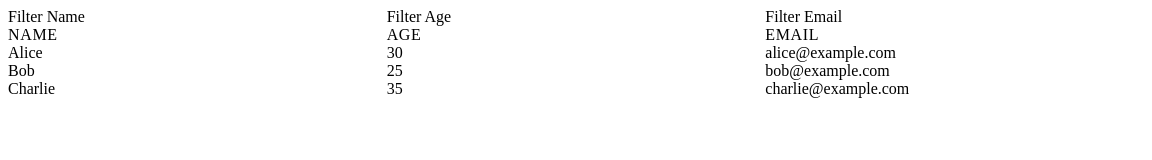
it: TableComponent › Filtering › should show empty state when filter matches nothing
In the field with class "input-field" showing "Filter Name": (197, 17) 8,8 -> 387,26, type "ZZZ_NO_MATCH"
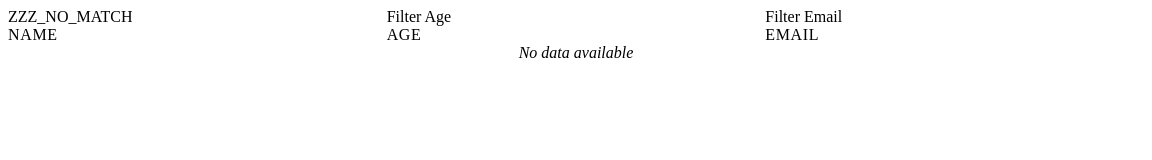
Expected: the cell with class "lc-table__empty" is shown, 8,44 -> 1144,62
